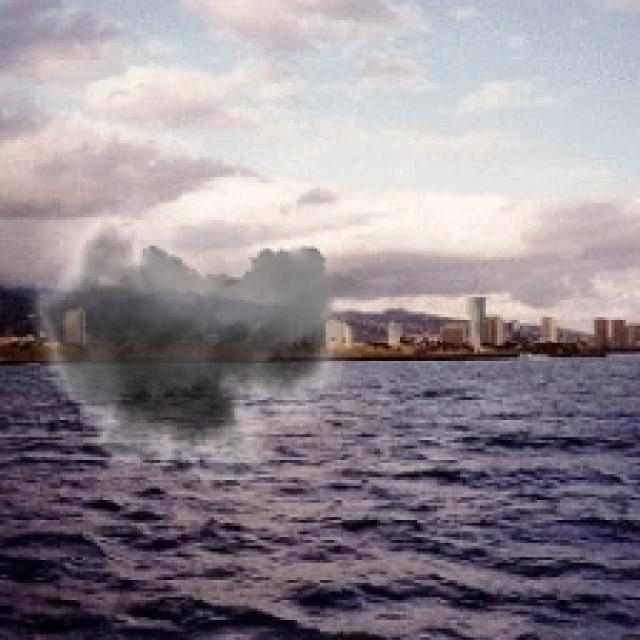smoke: (11, 151, 360, 506)
